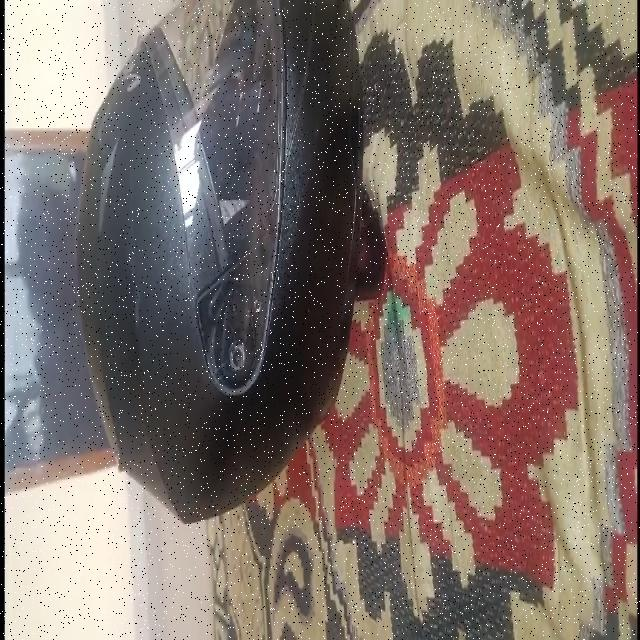Helmet: (76, 3, 361, 523)
